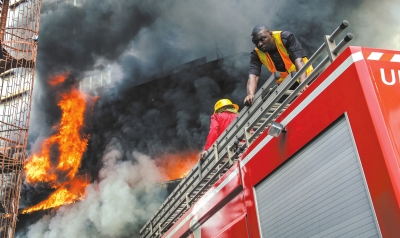fire: (25, 60, 110, 203)
